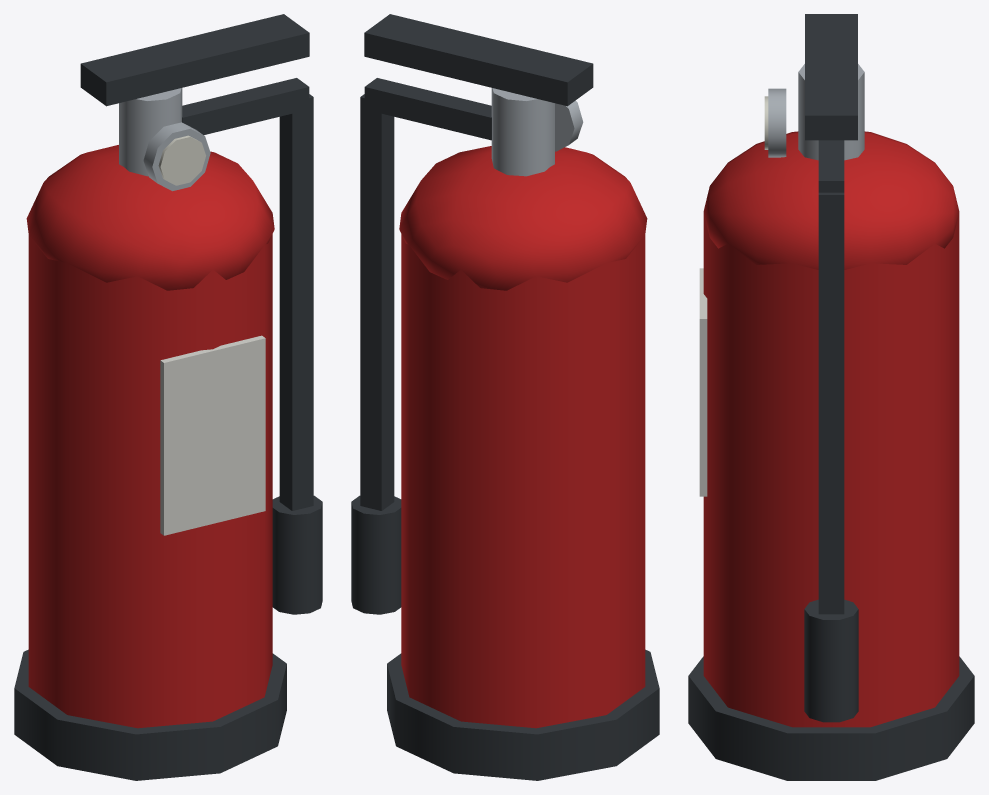
3 renders of one model, left to right at view 1: azimuth 30°, elevation 25°; view 2: azimuth 150°, elevation 25°; view 3: azimuth 270°, elevation 25°, orthographic. The views are drawn at different scales.
Visible parts, largest first — view 1: body, shoulder, label, base, hose, handle, nozzle, hoseTop, valve, gaugeFace, gauge; view 2: body, shoulder, base, hose, handle, nozzle, valve, hoseTop, gauge; view 3: body, shoulder, base, hose, handle, nozzle, label, valve, hoseTop, gauge.
Boxes of the visible parts, bbox=[...] form: body: bbox=[28, 234, 272, 728]; shoulder: bbox=[26, 145, 274, 290]; label: bbox=[160, 335, 265, 535]; base: bbox=[14, 649, 286, 780]; hose: bbox=[279, 94, 313, 510]; handle: bbox=[80, 14, 309, 106]; nozzle: bbox=[272, 495, 322, 614]; hoseTop: bbox=[182, 78, 309, 134]; valve: bbox=[119, 88, 182, 176]; gaugeFace: bbox=[158, 135, 205, 185]; gauge: bbox=[143, 122, 210, 191]; body: bbox=[401, 234, 645, 728]; shoulder: bbox=[399, 146, 647, 290]; base: bbox=[387, 649, 659, 780]; hose: bbox=[360, 94, 394, 510]; handle: bbox=[364, 14, 593, 106]; nozzle: bbox=[351, 495, 401, 614]; valve: bbox=[491, 88, 554, 176]; hoseTop: bbox=[364, 78, 491, 140]; gauge: bbox=[555, 100, 583, 151]; body: bbox=[703, 213, 959, 727]; shoulder: bbox=[703, 131, 959, 269]; base: bbox=[688, 656, 974, 780]; hose: bbox=[818, 192, 844, 614]; handle: bbox=[805, 14, 857, 140]; nozzle: bbox=[804, 599, 858, 722]; label: bbox=[699, 268, 707, 496]; valve: bbox=[798, 64, 864, 160]; hoseTop: bbox=[818, 140, 844, 192]; gauge: bbox=[768, 88, 786, 157].
Bounding box in the file's own units: 0.2225 × 0.499 × 0.19.
